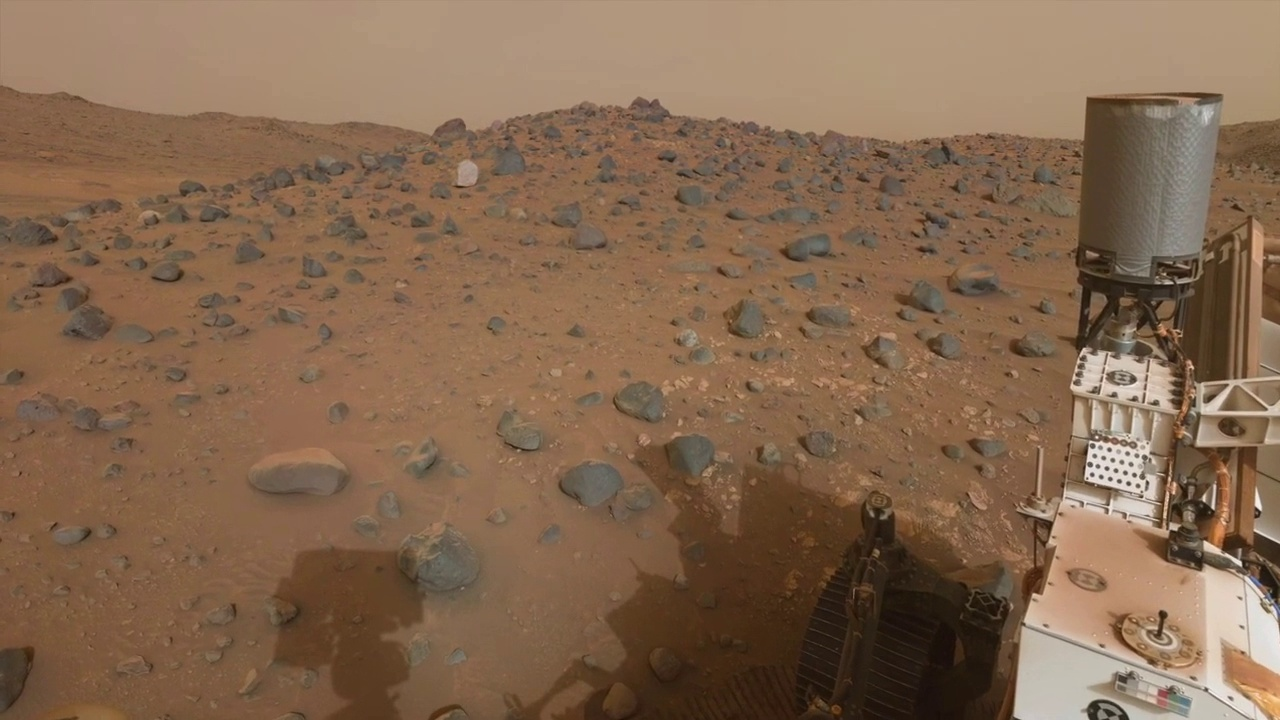rock: (894, 283, 949, 324), (613, 385, 662, 424), (796, 425, 841, 463), (938, 444, 984, 477), (1142, 611, 1178, 652), (723, 301, 760, 339), (914, 332, 959, 360), (861, 336, 893, 369), (1008, 337, 1057, 358), (804, 309, 854, 328), (966, 438, 1009, 460), (151, 258, 185, 284)
